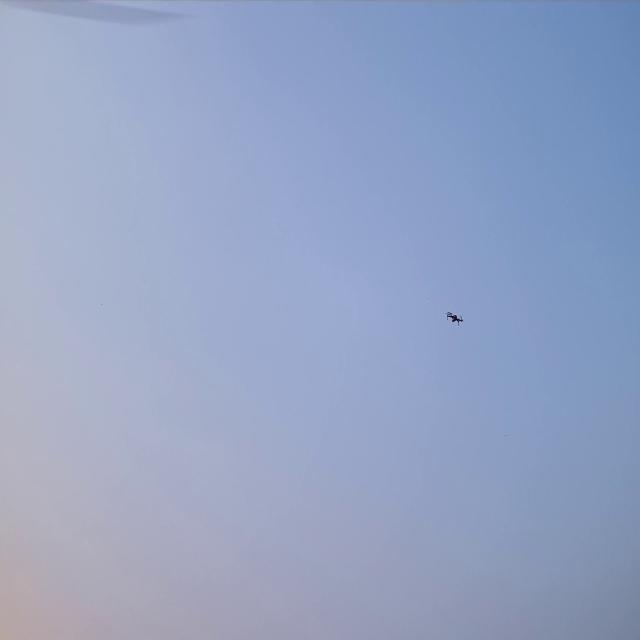UAV: (443, 310, 464, 327)
